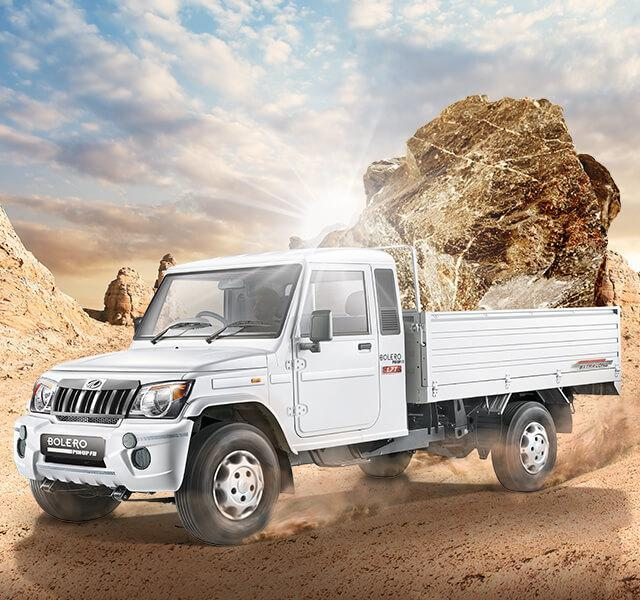truck: (12, 245, 623, 545)
